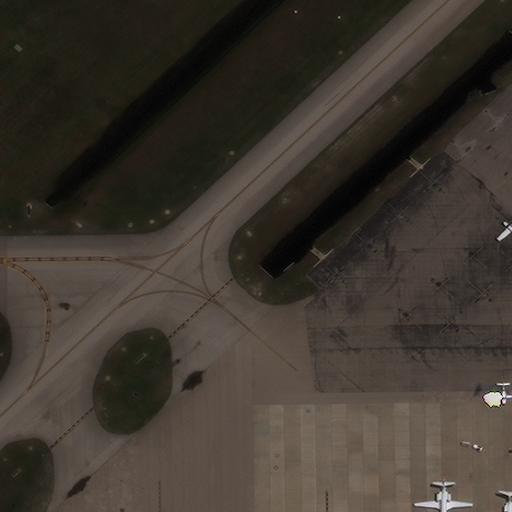Medium Civil Transport: (414, 477, 472, 511)
Small Civil Transport: (484, 381, 512, 405), (495, 219, 512, 238)
